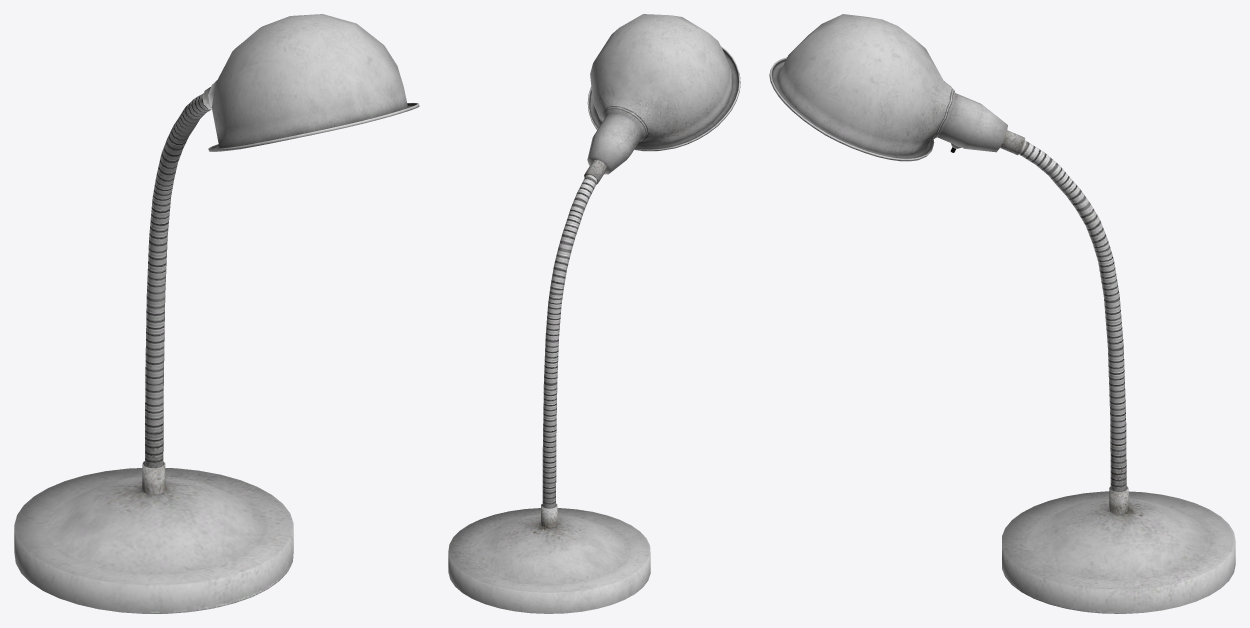
File: deskLamp02.FBX
3 views of the same model, side by side, from view 1: azimuth 30°, elevation 25°; view 2: azimuth 150°, elevation 25°; view 3: azimuth 270°, elevation 25° (orthographic). The views are drawn at different scales.
Parts seen in each view (by area): view 1: SM_DeskLamp02; view 2: SM_DeskLamp02; view 3: SM_DeskLamp02.
Boxes of the visible parts, <box> form: SM_DeskLamp02: <box>14,14,419,613</box>; SM_DeskLamp02: <box>448,14,740,613</box>; SM_DeskLamp02: <box>769,14,1235,613</box>.
Size of the model in its own units: 20.59 by 52.56 by 41.03.
Materials: 1 (1 with a texture image).
